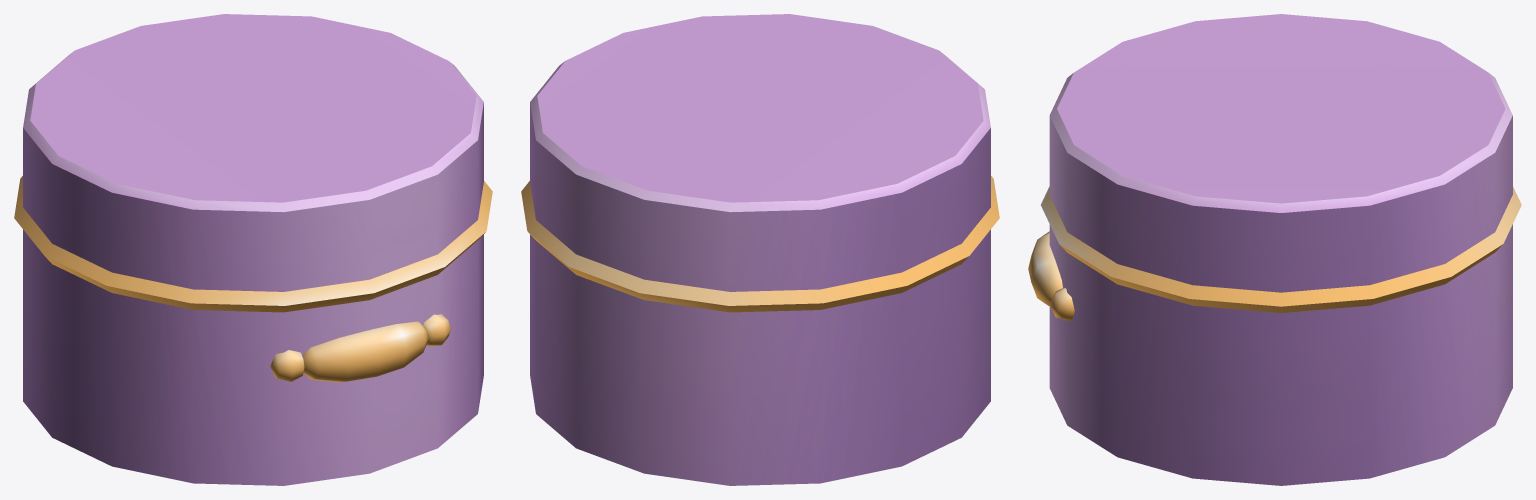
File: Dol_OB_GiftBox_1.fbx
3 views of the same model, side by side, from view 1: azimuth 30°, elevation 25°; view 2: azimuth 150°, elevation 25°; view 3: azimuth 270°, elevation 25° (orthographic).
Visible parts, largest first — view 1: Doll_OB_GifBox_1; view 2: Doll_OB_GifBox_1; view 3: Doll_OB_GifBox_1.
Boxes of the visible parts, <box> form: Doll_OB_GifBox_1: <box>14,14,492,485</box>; Doll_OB_GifBox_1: <box>521,14,999,485</box>; Doll_OB_GifBox_1: <box>1028,14,1521,485</box>.
Bounding box in the file's own units: 15.25 × 9.77 × 15.65.
Materials: 1 (1 with a texture image).
